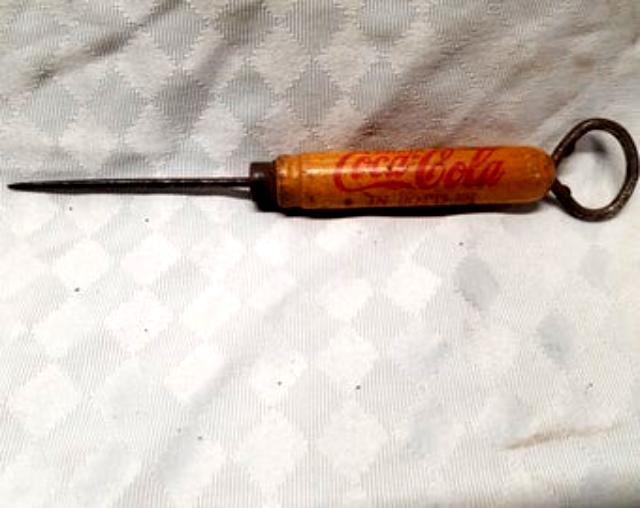ice pick: (4, 147, 554, 209)
